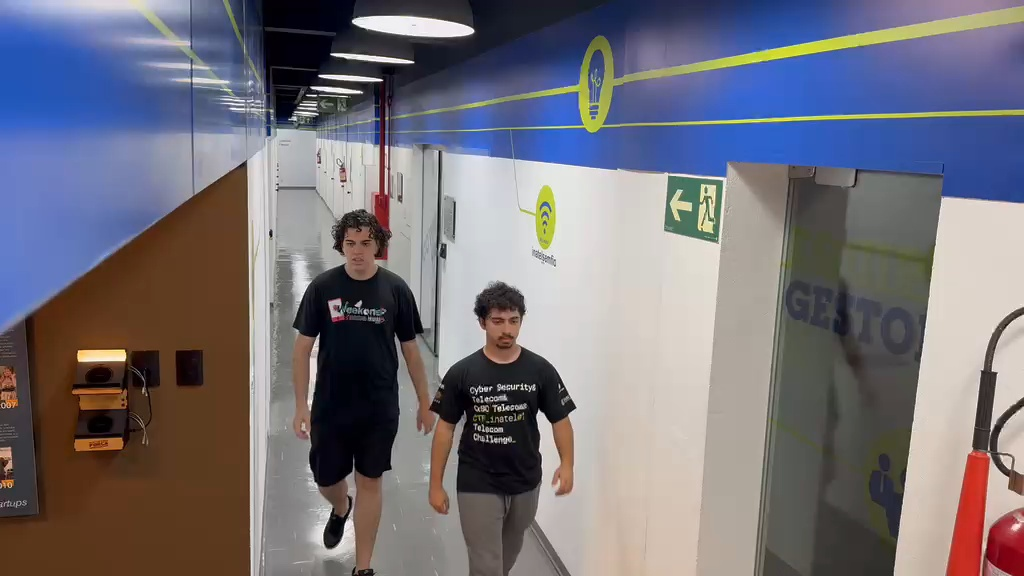person: (290, 209, 436, 574), (427, 280, 577, 573)
